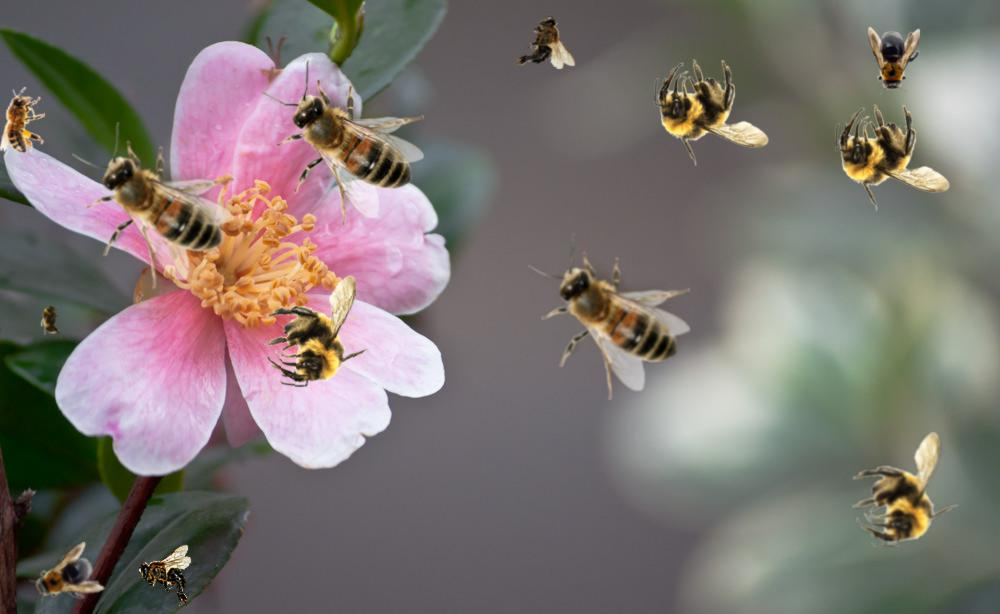Bee: (528, 233, 690, 400), (72, 122, 234, 289), (262, 60, 424, 227), (261, 269, 376, 392), (852, 432, 959, 547), (654, 59, 769, 166), (835, 104, 950, 211), (23, 541, 107, 614), (868, 27, 920, 95), (138, 545, 191, 607), (513, 16, 575, 69), (0, 87, 45, 153), (40, 299, 62, 339)
